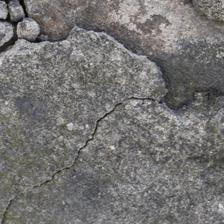Crack: (92, 73, 216, 142), (25, 62, 135, 109)
